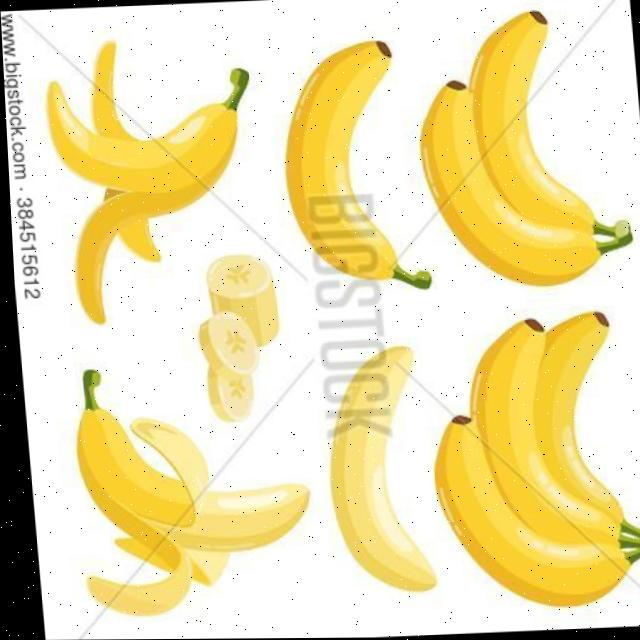Banana: (419, 11, 629, 286), (285, 42, 425, 287), (466, 320, 614, 548), (430, 425, 615, 605), (469, 13, 588, 234), (528, 314, 615, 544), (494, 425, 536, 489)
